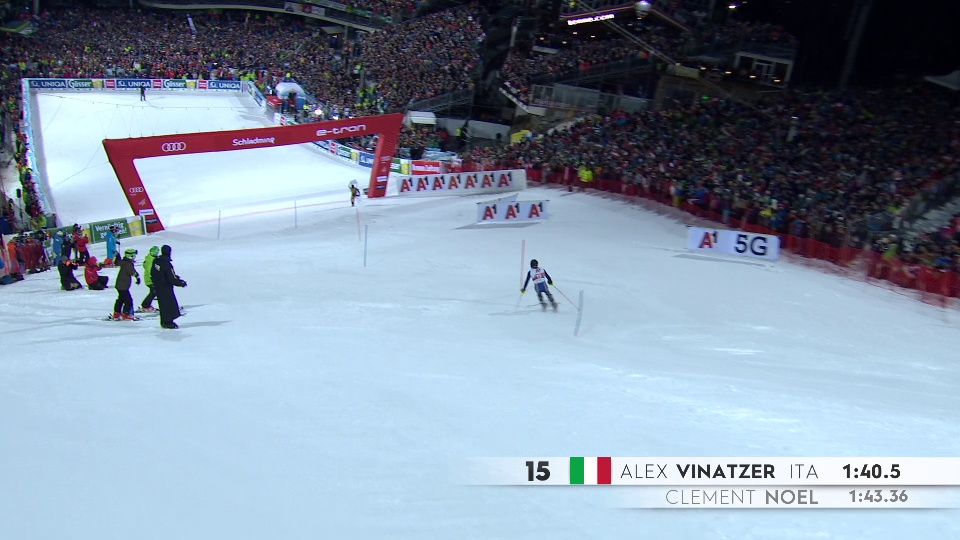5g: (735, 231, 772, 259)
a1: (698, 231, 725, 252), (481, 203, 501, 223), (529, 202, 549, 220), (499, 170, 516, 189), (507, 202, 524, 220), (466, 171, 480, 191), (482, 171, 495, 191), (401, 176, 415, 194), (450, 172, 462, 191), (434, 173, 445, 192), (418, 175, 429, 193)
audi: (159, 140, 190, 157), (125, 183, 146, 197)
etron: (316, 122, 369, 138), (232, 135, 278, 149)
uniqa: (209, 80, 242, 92), (114, 79, 148, 90), (28, 79, 62, 90)
